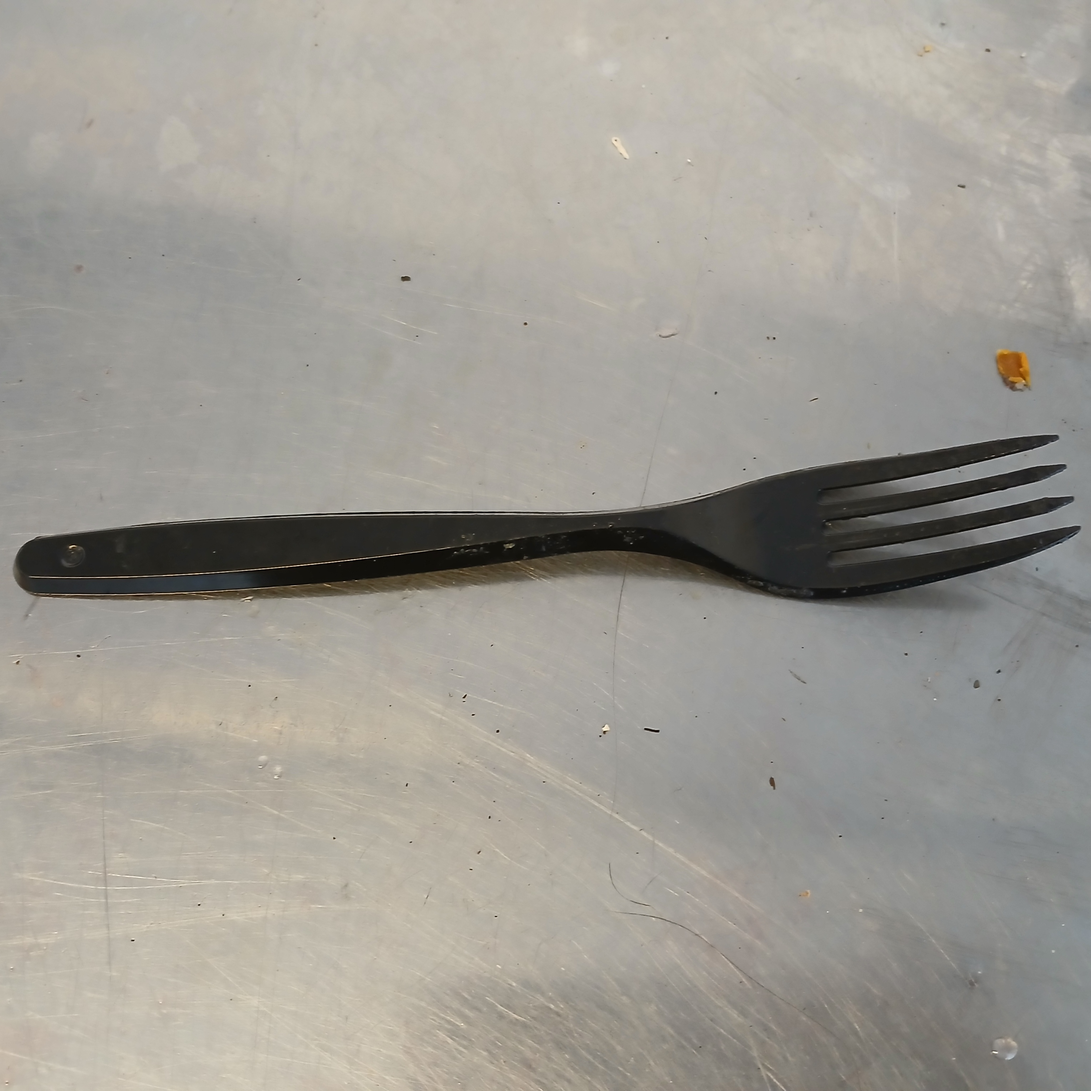Ordinario: (15, 432, 1079, 603)
